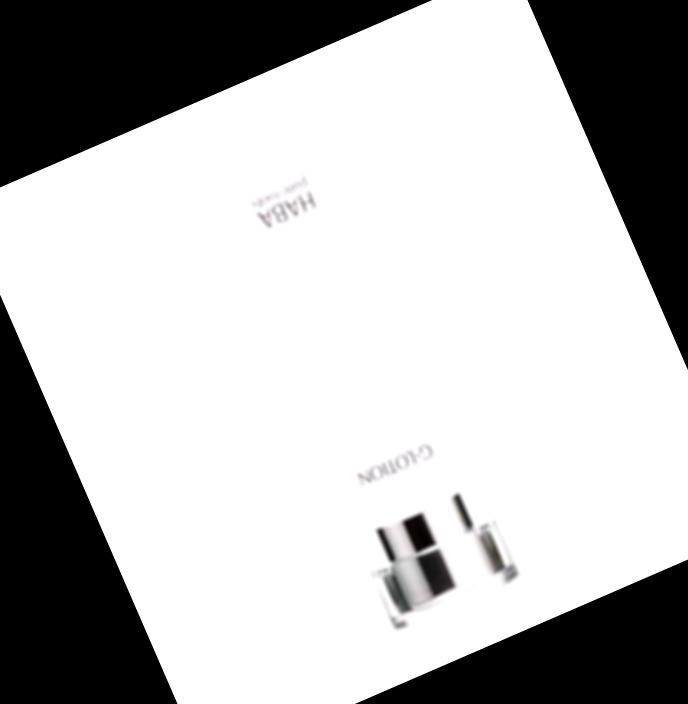cosmetic: (177, 91, 526, 636)
